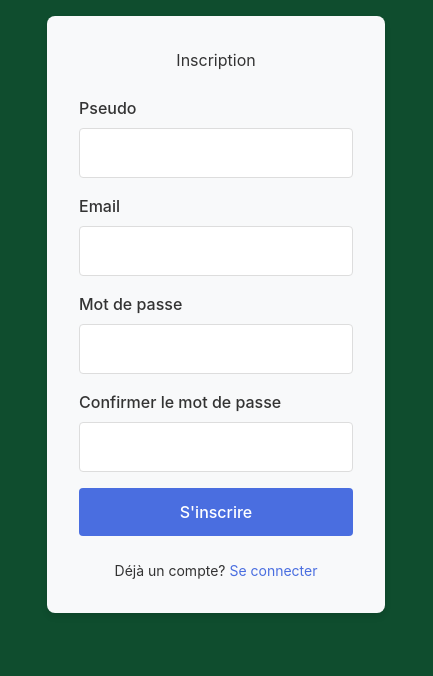
Test: Register Component › affiche une erreur si le mot de passe est trop court
The image size is (433, 676).
Type "testuser" into the field labelled "Pseudo" at (216, 153), box [79, 128, 353, 178]
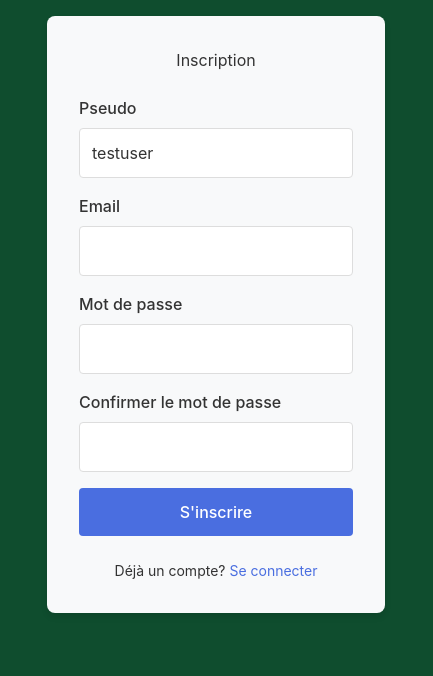
Type "test@example.com" into the field labelled "Email" at (216, 251), box [79, 226, 353, 276]
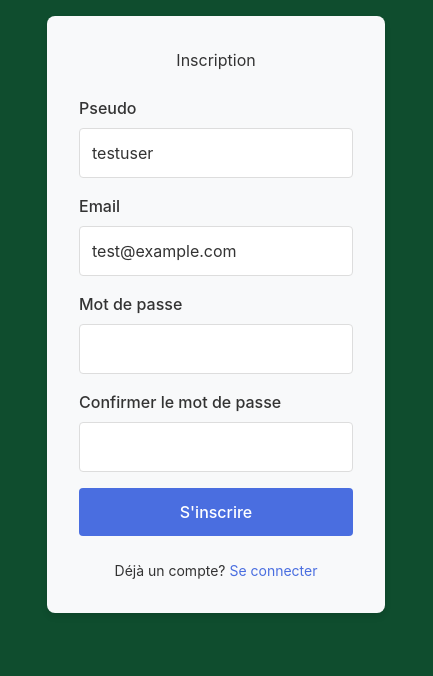
Type "Abc123" into the password field labelled "Mot de passe" at (216, 349), box [79, 324, 353, 374]
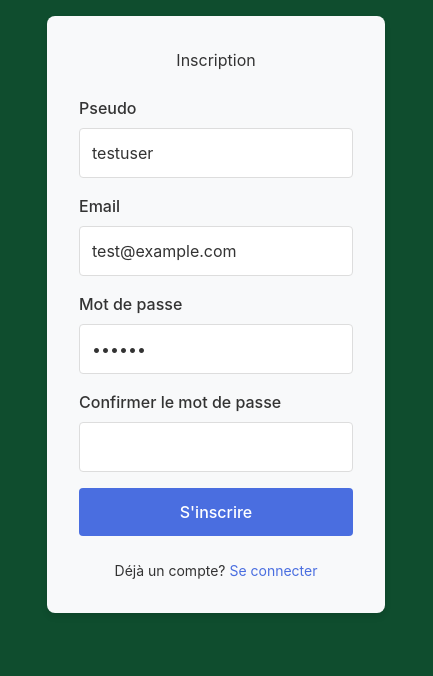
Type "Abc123" into the password field labelled "Confirmer le mot de passe" at (216, 447), box [79, 422, 353, 472]
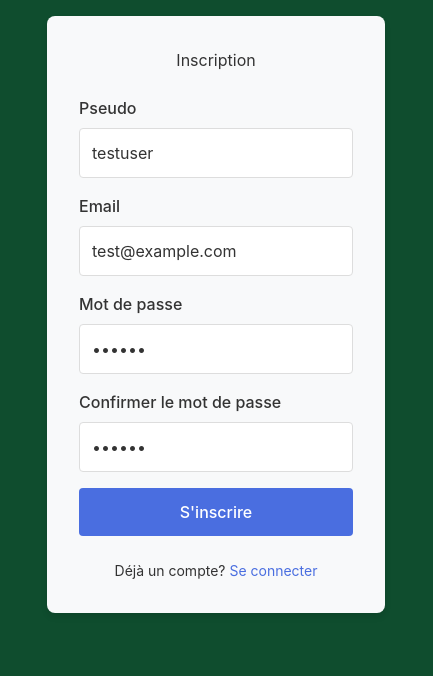
Click the button "S'inscrire" at (216, 512), box [79, 488, 353, 536]
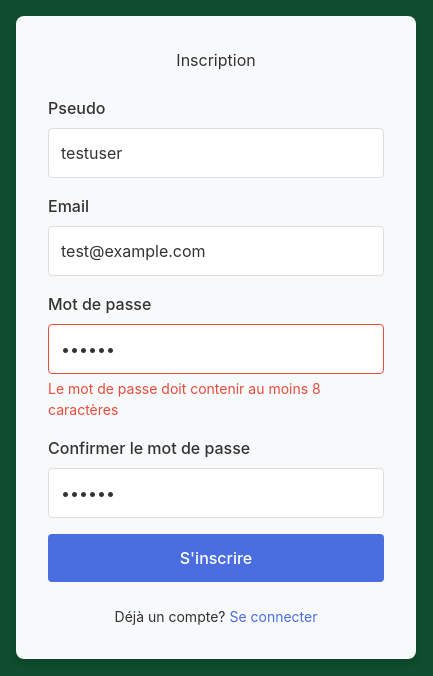
Expected: the text "Le mot de passe doit contenir au moins 8 caractères" is shown, [48, 380, 321, 418]
